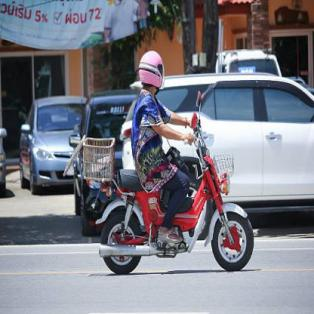Motocicleta: (73, 112, 257, 277)
